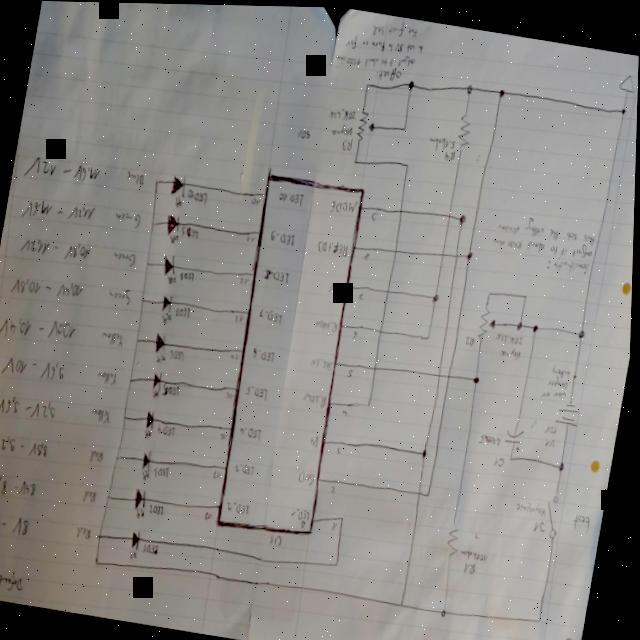capacitor: (506, 426, 528, 452)
crossover: (385, 285, 394, 296), (378, 327, 387, 336), (373, 363, 382, 372), (393, 246, 401, 256), (437, 370, 445, 380), (455, 250, 462, 261), (398, 206, 406, 215), (440, 248, 447, 258), (447, 210, 454, 220), (448, 371, 455, 380), (419, 489, 425, 496)
diode: (169, 172, 190, 210), (165, 212, 185, 245), (133, 487, 152, 521), (154, 331, 172, 365), (160, 293, 178, 326), (163, 252, 182, 282), (142, 449, 157, 482), (145, 409, 160, 440), (132, 530, 146, 561), (152, 370, 166, 400)
ground: (618, 71, 639, 93)
junction: (559, 458, 569, 472), (459, 211, 469, 225), (465, 82, 475, 96), (422, 446, 431, 459), (407, 79, 416, 91), (433, 291, 442, 302), (621, 103, 629, 115), (580, 327, 588, 339), (534, 322, 542, 333), (475, 373, 483, 384), (499, 86, 507, 97), (467, 249, 475, 260), (518, 319, 526, 330), (444, 607, 452, 617), (99, 532, 107, 542), (150, 219, 158, 228), (337, 559, 344, 568), (108, 493, 115, 502), (365, 80, 372, 89), (141, 296, 148, 305), (146, 260, 153, 269), (130, 377, 137, 386), (97, 559, 104, 567), (354, 157, 360, 166), (155, 178, 161, 187), (428, 490, 434, 499), (541, 614, 547, 623), (403, 124, 409, 133), (125, 413, 131, 422), (118, 454, 124, 463), (427, 332, 433, 341), (136, 338, 143, 345), (403, 601, 409, 608), (525, 292, 531, 299), (406, 162, 412, 169), (489, 289, 495, 296), (511, 454, 516, 460), (370, 402, 375, 408), (343, 515, 348, 521)
resistor: (477, 304, 501, 341), (456, 111, 476, 151), (356, 109, 379, 143), (448, 522, 466, 559)
source: (557, 399, 584, 426)
switch: (545, 491, 568, 541)
text: (496, 210, 599, 246), (493, 227, 596, 262), (23, 153, 104, 191), (0, 313, 85, 349), (20, 195, 99, 232), (335, 43, 418, 76), (12, 273, 92, 307), (19, 233, 94, 266), (345, 31, 425, 61), (0, 392, 63, 430), (2, 354, 74, 386), (0, 432, 54, 465), (0, 470, 44, 503), (371, 14, 420, 43), (0, 559, 30, 597), (0, 508, 35, 540), (547, 252, 592, 276), (317, 237, 352, 258), (427, 131, 458, 154), (375, 63, 404, 84), (115, 210, 144, 230), (101, 329, 128, 350), (328, 106, 359, 124), (97, 368, 122, 390), (518, 498, 550, 515), (108, 286, 135, 306), (264, 267, 294, 285), (331, 197, 359, 216), (260, 307, 288, 326), (271, 229, 300, 247), (497, 330, 527, 347), (92, 406, 116, 427), (113, 250, 139, 269), (574, 511, 595, 534), (305, 389, 330, 408), (246, 383, 272, 401), (311, 355, 336, 373), (279, 190, 307, 206), (465, 546, 493, 562), (253, 347, 279, 364), (126, 169, 149, 188), (241, 424, 266, 441), (543, 386, 571, 401), (330, 122, 356, 138), (229, 500, 255, 516), (187, 188, 211, 205), (316, 317, 340, 334), (481, 431, 506, 447), (501, 344, 524, 360), (300, 469, 320, 486), (293, 507, 314, 523), (84, 488, 102, 506), (78, 525, 97, 542), (549, 375, 572, 389), (164, 382, 184, 398), (158, 424, 179, 439), (237, 462, 258, 477), (270, 532, 288, 549), (90, 449, 109, 465), (553, 364, 574, 378), (329, 280, 346, 297), (182, 225, 201, 240), (535, 517, 551, 533), (465, 559, 481, 575), (157, 465, 174, 480), (146, 543, 164, 557), (170, 349, 188, 363), (177, 305, 194, 319), (152, 503, 169, 517), (298, 127, 313, 141), (181, 270, 197, 283), (546, 435, 560, 449), (444, 148, 458, 162), (342, 137, 355, 152), (496, 454, 509, 468), (547, 422, 561, 435), (312, 433, 324, 448), (370, 209, 382, 224), (466, 334, 479, 347), (207, 511, 218, 522), (214, 469, 225, 480), (227, 389, 238, 400), (236, 313, 247, 324), (241, 275, 252, 286), (252, 195, 263, 206), (222, 431, 232, 442), (232, 352, 243, 362), (248, 234, 259, 244), (342, 407, 352, 418), (364, 249, 373, 261), (333, 520, 342, 531), (332, 483, 340, 495), (349, 366, 357, 378), (337, 444, 345, 455), (353, 328, 361, 339), (360, 289, 367, 301)
